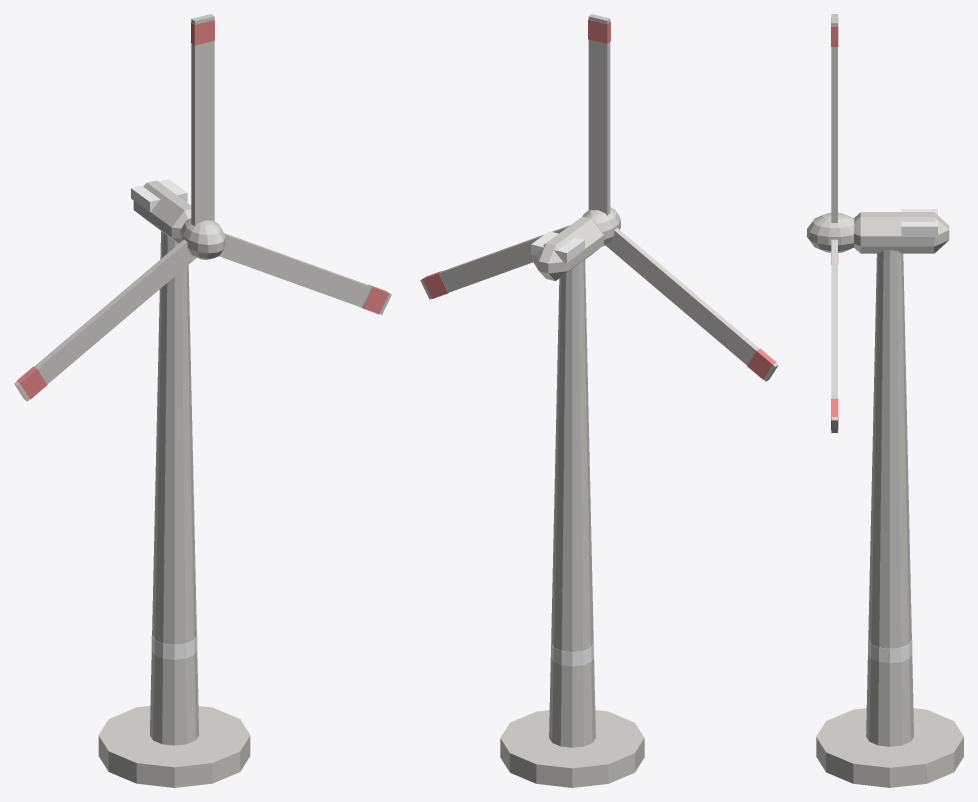
The model's file is wind.glb.
3 views of the same model, side by side, from view 1: azimuth 30°, elevation 25°; view 2: azimuth 150°, elevation 25°; view 3: azimuth 270°, elevation 25° (orthographic). The views are drawn at different scales.
Visible parts, largest first — view 1: main, blades; view 2: main, blades; view 3: main, blades.
Part boxes in pixels (bbox=[...]): main: bbox=[98, 179, 250, 787]; blades: bbox=[14, 14, 391, 401]; main: bbox=[500, 216, 644, 787]; blades: bbox=[420, 14, 778, 381]; main: bbox=[816, 209, 963, 787]; blades: bbox=[807, 14, 854, 432].
Bounding box in the file's own units: 1.14 × 2.2 × 0.4251.
